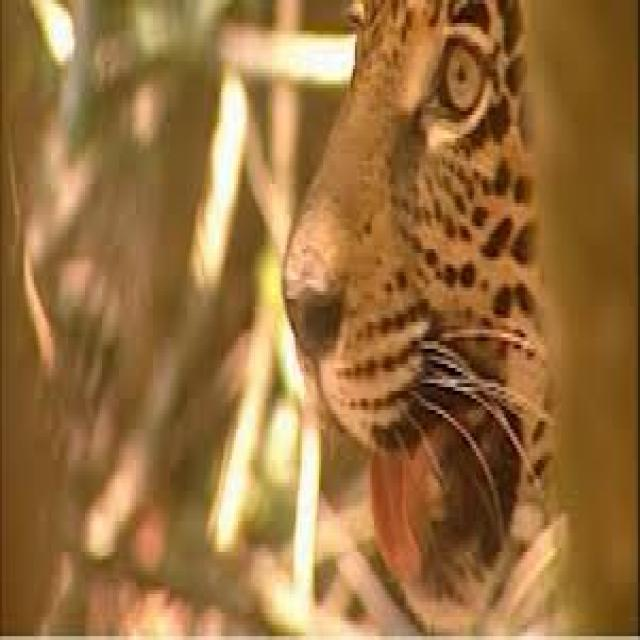Jaguar: (281, 0, 523, 640)
